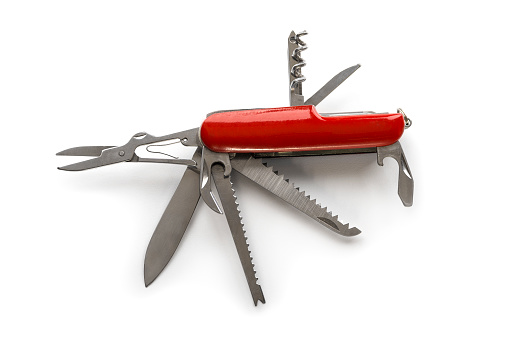knife: (233, 156, 366, 239), (142, 145, 209, 295), (211, 163, 266, 309), (377, 143, 415, 211), (306, 61, 363, 105), (197, 149, 232, 218), (287, 30, 304, 108)
